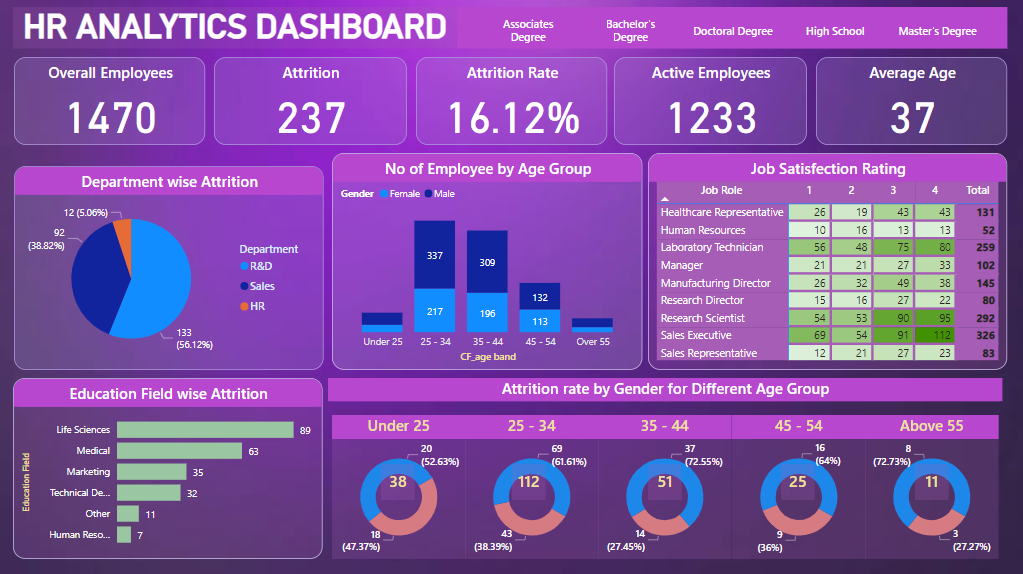

This screenshot's page, from the dashboard's own definition file:
{"tool":"powerbi","page":{"name":"Page 1","canvas":[1280,720],"ordinal":0},"visuals":[{"type":"card","title":"Overall Employees","fields":{"Values":["Sum(HR data.Employee Count)"]},"box":[17.4,72.5,239.1,110.1],"z":0},{"type":"card","title":"Attrition","fields":{"Values":["Sum(HR data.Attrition Count)"]},"box":[268.1,72.5,240.6,110.1],"z":1000},{"type":"card","title":"Attrition Rate","fields":{"Values":["HR data.Attrition Rate"]},"box":[520.3,72.5,239.1,110.1],"z":2000},{"type":"card","title":"Active Employees","fields":{"Values":["HR data.Active Employees"]},"box":[768.1,72.5,240.6,110.1],"z":3000},{"type":"card","title":"Average Age","fields":{"Values":["Avg(HR data.Age)"]},"box":[1020.3,72.5,239.1,110.1],"z":4000},{"type":"pieChart","title":"Department wise Attrition","fields":{"Category":["HR data.Department"],"Y":["Sum(HR data.Attrition Count)"]},"box":[17.4,208.7,387,255.1],"z":5000},{"type":"columnChart","title":"No of Employee by Age Group","fields":{"Category":["HR data.CF_age band"],"Y":["Sum(HR data.Employee Count)"],"Series":["HR data.Gender"]},"box":[414.5,192.8,388.4,271],"z":6000},{"type":"pivotTable","title":"Job Satisfection Rating","fields":{"Rows":["HR data.Job Role"],"Columns":["HR data.Job Satisfaction"],"Values":["Sum(HR data.Employee Count)"]},"box":[810.1,192.8,449.3,271],"z":7000},{"type":"barChart","title":"Education Field wise Attrition","fields":{"Category":["HR data.Education Field"],"Y":["Sum(HR data.Attrition Count)"]},"box":[15.9,473.9,387,226.1],"z":8000},{"type":"donutChart","title":"Under 25","fields":{"Category":["HR data.Gender"],"Y":["Sum(HR data.Attrition Count)"],"Series":["HR data.CF_age band"]},"box":[414.5,520.3,166.7,179.7],"z":9000},{"type":"textbox","title":"Attrition rate by Gender for Different Age Group","box":[410.1,473.9,843.5,29],"z":10000},{"type":"donutChart","title":" 25 - 34","fields":{"Category":["HR data.Gender"],"Y":["Sum(HR data.Attrition Count)"],"Series":["HR data.CF_age band"]},"box":[581.2,520.3,166.7,179.7],"z":11000},{"type":"donutChart","title":"35 - 44","fields":{"Category":["HR data.Gender"],"Y":["Sum(HR data.Attrition Count)"],"Series":["HR data.CF_age band"]},"box":[747.8,520.3,166.7,179.7],"z":12000},{"type":"donutChart","title":"45 - 54","fields":{"Category":["HR data.Gender"],"Y":["Sum(HR data.Attrition Count)"],"Series":["HR data.CF_age band"]},"box":[914.5,520.3,166.7,179.7],"z":13000},{"type":"donutChart","title":"Above 55","fields":{"Category":["HR data.Gender"],"Y":["Sum(HR data.Attrition Count)"],"Series":["HR data.CF_age band"]},"box":[1081.2,520.3,166.7,179.7],"z":14000},{"type":"card","fields":{"Values":["Sum(HR data.Attrition Count)"]},"box":[476.8,581.2,42,44.9],"z":15000},{"type":"card","fields":{"Values":["Sum(HR data.Attrition Count)"]},"box":[640.6,581.2,42,44.9],"z":16000},{"type":"card","fields":{"Values":["Sum(HR data.Attrition Count)"]},"box":[810.1,581.2,42,44.9],"z":17000},{"type":"card","fields":{"Values":["Sum(HR data.Attrition Count)"]},"box":[976.8,581.2,42,44.9],"z":18000},{"type":"card","fields":{"Values":["Sum(HR data.Attrition Count)"]},"box":[1143.5,581.2,42,44.9],"z":19000},{"type":"textbox","title":"HR ANALYTICS DASHBOARD","box":[15.9,10.1,555.1,52.2],"z":20000},{"type":"slicer","fields":{"Values":["HR data.Education"]},"box":[571.1,10.6,687.7,51.5],"z":21000}]}

Visuals, with their boxes in screenshot pixels (x1, y1, x2, y2), scaled from the page's 1280x720 canvas onto the 1023x574 screenshot:
"Overall Employees" card: detection(14, 58, 205, 146)
"Attrition" card: detection(214, 58, 407, 146)
"Attrition Rate" card: detection(416, 58, 607, 146)
"Active Employees" card: detection(614, 58, 806, 146)
"Average Age" card: detection(815, 58, 1007, 146)
"Department wise Attrition" pieChart: detection(14, 166, 323, 370)
"No of Employee by Age Group" columnChart: detection(331, 154, 642, 370)
"Job Satisfection Rating" pivotTable: detection(647, 154, 1007, 370)
"Education Field wise Attrition" barChart: detection(13, 378, 322, 558)
"Under 25" donutChart: detection(331, 415, 465, 558)
"Attrition rate by Gender for Different Age Group" textbox: detection(328, 378, 1002, 401)
" 25 - 34" donutChart: detection(465, 415, 598, 558)
"35 - 44" donutChart: detection(598, 415, 731, 558)
"45 - 54" donutChart: detection(731, 415, 864, 558)
"Above 55" donutChart: detection(864, 415, 997, 558)
card - Sum(HR data.Attrition Count): detection(381, 463, 415, 499)
card - Sum(HR data.Attrition Count): detection(512, 463, 546, 499)
card - Sum(HR data.Attrition Count): detection(647, 463, 681, 499)
card - Sum(HR data.Attrition Count): detection(781, 463, 814, 499)
card - Sum(HR data.Attrition Count): detection(914, 463, 947, 499)
"HR ANALYTICS DASHBOARD" textbox: detection(13, 8, 456, 50)
slicer - HR data.Education: detection(456, 8, 1006, 50)
